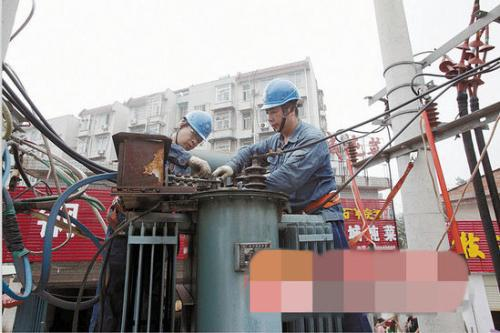helmet: (257, 75, 305, 135), (176, 107, 216, 151)
